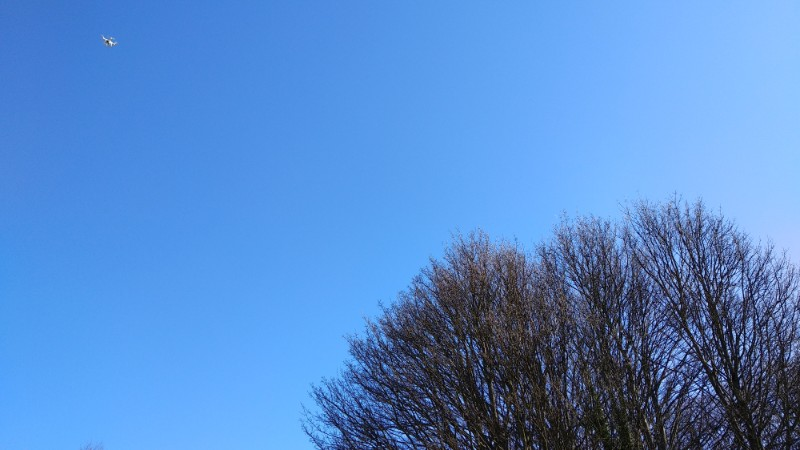drone: (101, 34, 118, 49)
